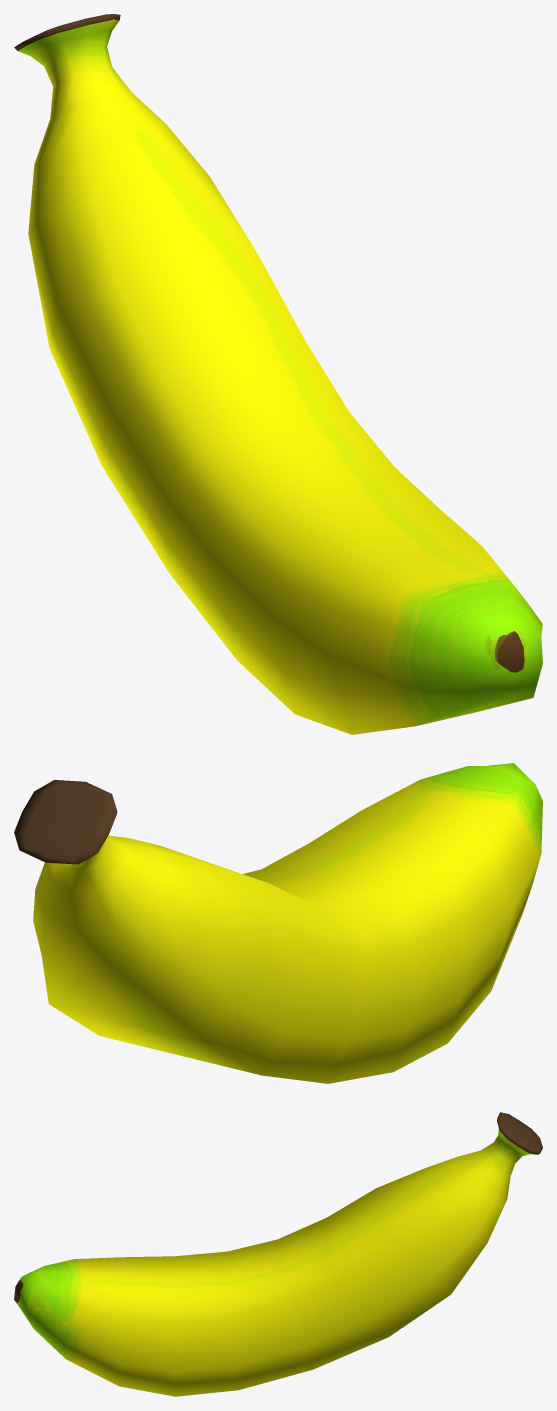
The model's file is Banana.fbx.
3 views of the same model, one above another, from view 1: azimuth 30°, elevation 25°; view 2: azimuth 150°, elevation 25°; view 3: azimuth 270°, elevation 25° (orthographic). The views are drawn at different scales.
Visible parts, largest first — view 1: Cube; view 2: Cube; view 3: Cube.
Boxes of the visible parts, bbox=[...] form: Cube: bbox=[14, 14, 542, 734]; Cube: bbox=[14, 763, 542, 1083]; Cube: bbox=[14, 1112, 542, 1396].
Bounding box in the file's own units: 4.81 × 19.7 × 10.52.
